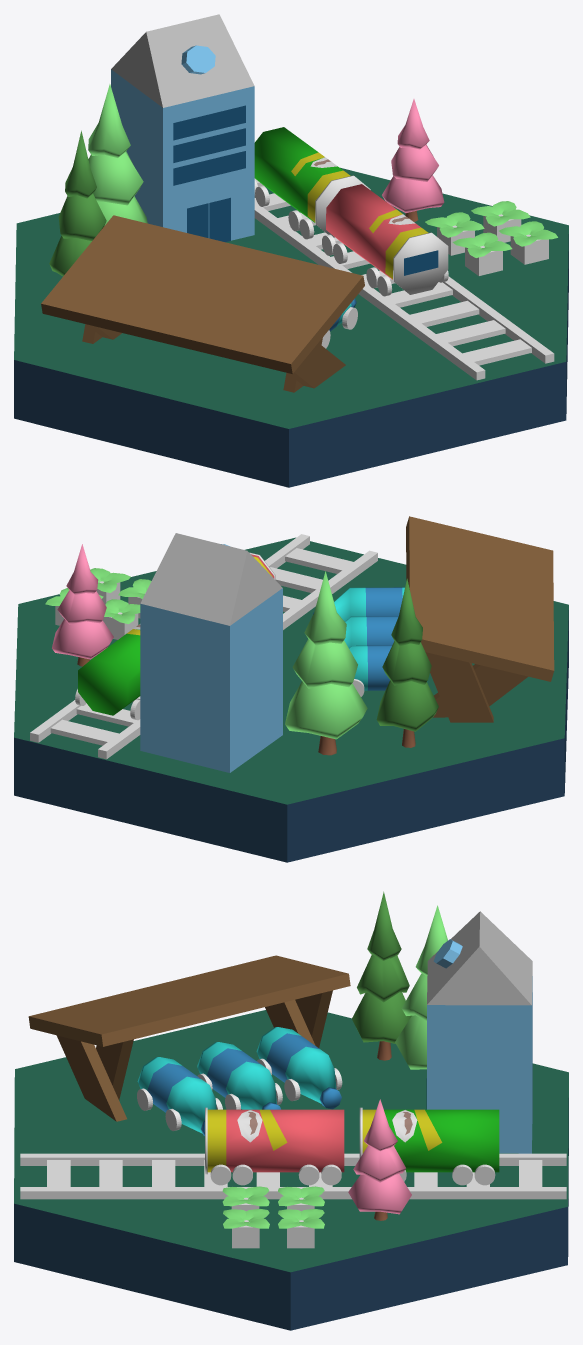
File: Macro - Transportation Hub lvl 2 WM1.fbx
3 views of the same model, one above another, from view 1: azimuth 30°, elevation 25°; view 2: azimuth 150°, elevation 25°; view 3: azimuth 270°, elevation 25° (orthographic).
Visible parts, largest first — view 1: Cylinder.013, table.001, milkbox1.001, chips_001.002, chips_001.001, Tree_Spruce_tiny_01.008, Tree_Spruce_tiny_01.003, Tree_Spruce_tiny_01.007, Cube.137, Cube.136, Plane.001, Plane.003 (+14 smaller); view 2: Cylinder.013, milkbox1.001, table.001, Tree_Spruce_tiny_01.008, Tree_Spruce_tiny_01.007, Tree_Spruce_tiny_01.003, chips_001.001, Cube.137, coke3.003, coke3.004, coke3.005, Cube.136 (+7 smaller); view 3: Cylinder.013, milkbox1.001, table.001, chips_001.002, chips_001.001, Cube.136, Tree_Spruce_tiny_01.007, Tree_Spruce_tiny_01.003, coke3.005, coke3.004, coke3.003, Cube.137 (+11 smaller).
Part boxes in pixels (left/top/right/bottom): Cylinder.013: left=14, top=167, right=568, bottom=487; table.001: left=41, top=215, right=364, bottom=392; milkbox1.001: left=111, top=14, right=254, bottom=240; chips_001.002: left=326, top=184, right=448, bottom=294; chips_001.001: left=254, top=127, right=370, bottom=237; Tree_Spruce_tiny_01.008: left=88, top=84, right=147, bottom=225; Tree_Spruce_tiny_01.003: left=382, top=99, right=444, bottom=221; Tree_Spruce_tiny_01.007: left=49, top=130, right=106, bottom=276; Cube.137: left=254, top=201, right=485, bottom=380; Cube.136: left=443, top=276, right=554, bottom=363; Plane.001: left=173, top=151, right=245, bottom=185; Plane.003: left=173, top=105, right=245, bottom=140; Cylinder.013: left=14, top=537, right=568, bottom=862; milkbox1.001: left=140, top=533, right=282, bottom=772; table.001: left=406, top=516, right=554, bottom=722; Tree_Spruce_tiny_01.008: left=285, top=571, right=367, bottom=755; Tree_Spruce_tiny_01.007: left=376, top=578, right=438, bottom=747; Tree_Spruce_tiny_01.003: left=52, top=544, right=113, bottom=666; chips_001.001: left=78, top=624, right=140, bottom=715; Cube.137: left=98, top=550, right=377, bottom=759; coke3.003: left=313, top=587, right=404, bottom=621; coke3.004: left=344, top=616, right=398, bottom=647; coke3.005: left=349, top=645, right=427, bottom=690; Cube.136: left=30, top=534, right=309, bottom=742; Cylinder.013: left=14, top=1010, right=568, bottom=1330; milkbox1.001: left=427, top=911, right=532, bottom=1153; table.001: left=28, top=955, right=350, bottom=1121; chips_001.002: left=205, top=1107, right=344, bottom=1174; chips_001.001: left=359, top=1107, right=499, bottom=1172; Cube.136: left=20, top=1187, right=566, bottom=1199; Tree_Spruce_tiny_01.007: left=352, top=891, right=411, bottom=1060; Tree_Spruce_tiny_01.003: left=348, top=1099, right=411, bottom=1220; coke3.005: left=256, top=1027, right=341, bottom=1109; coke3.004: left=197, top=1042, right=280, bottom=1109; coke3.003: left=137, top=1057, right=216, bottom=1135; Cube.137: left=20, top=1153, right=566, bottom=1165.
Bounding box in the file's own units: 197 × 89.35 × 172.
